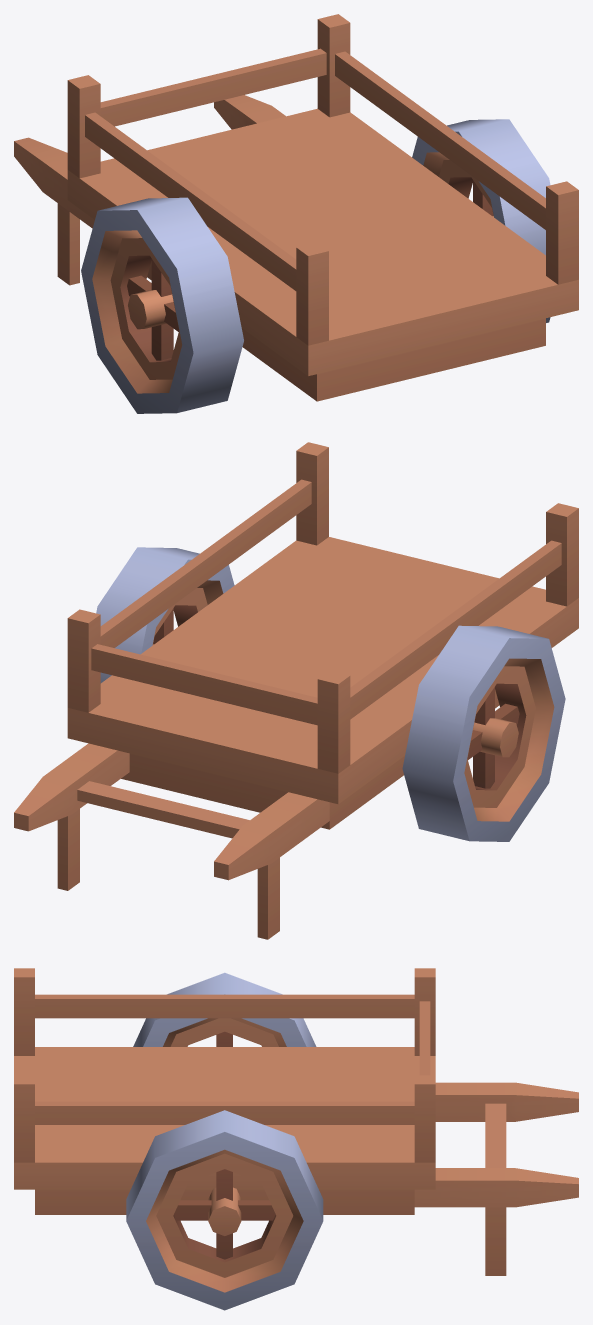
File: wooden_cart.glb
3 views of the same model, one above another, from view 1: azimuth 30°, elevation 25°; view 2: azimuth 150°, elevation 25°; view 3: azimuth 270°, elevation 25° (orthographic). The views are drawn at different scales.
Parts seen in each view (by area): view 1: cart; view 2: cart; view 3: cart.
Part boxes in pixels (box(x1,y1,x2,y2)): cart: box(14, 14, 578, 413); cart: box(14, 442, 578, 939); cart: box(14, 968, 578, 1310).
Bounding box in the file's own units: 0.8931 × 0.5354 × 1.34.
Materials: 1 (1 with a texture image).
